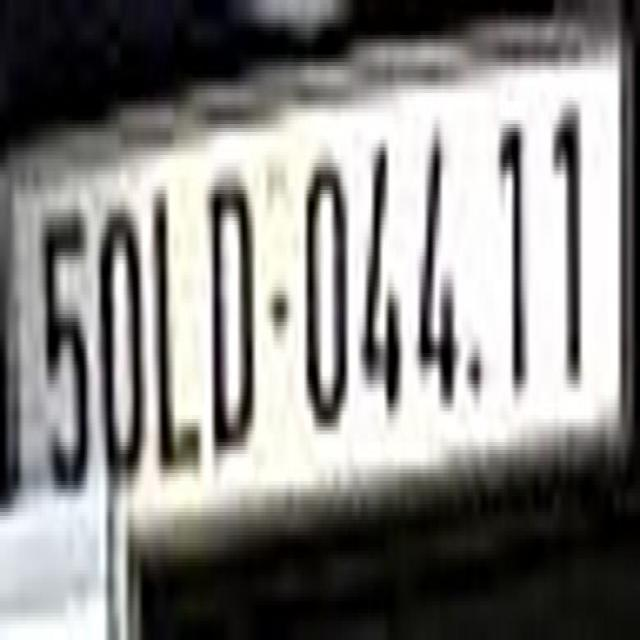0: (300, 101, 350, 458), (97, 170, 141, 528)
1: (548, 78, 594, 430), (494, 89, 536, 431)
4: (357, 105, 405, 454), (415, 112, 462, 458)
5: (40, 178, 93, 536)
D: (206, 140, 260, 484)
L: (151, 171, 201, 516)
